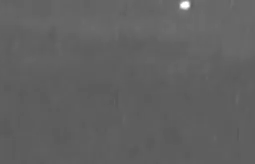Target: (179, 2, 189, 10)
